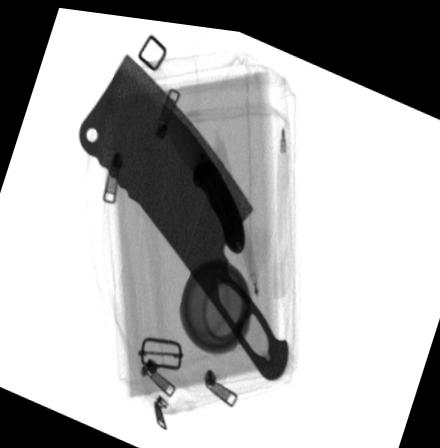Knife: (75, 47, 290, 375), (159, 97, 245, 248)
